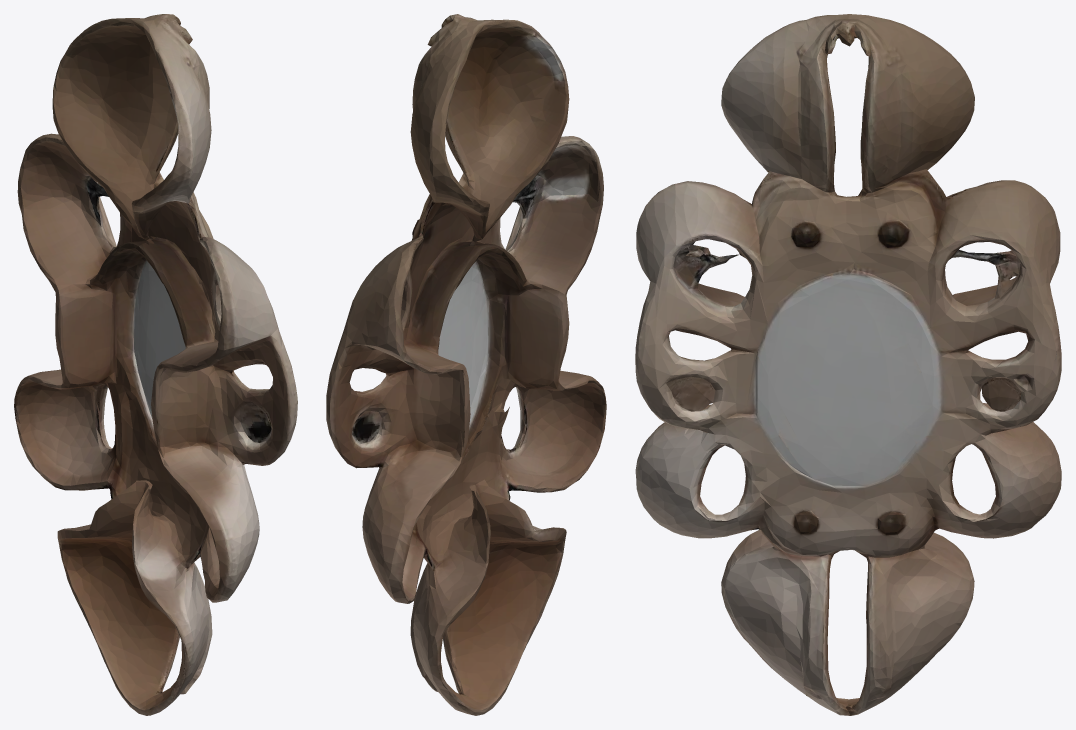
The model's file is ast_0594b3591b5a.glb.
3 renders of one model, left to right at view 1: azimuth 30°, elevation 25°; view 2: azimuth 150°, elevation 25°; view 3: azimuth 270°, elevation 25°, orthographic.
Parts seen in each view (by area): view 1: geometry_0; view 2: geometry_0; view 3: geometry_0.
Part boxes in pixels (<box>): geometry_0: <box>14,14,297,715</box>; geometry_0: <box>326,14,606,715</box>; geometry_0: <box>635,14,1061,715</box>.
Size of the model in its own units: 0.1456 by 0.9993 by 0.5514.
1 material, 1 textured.
